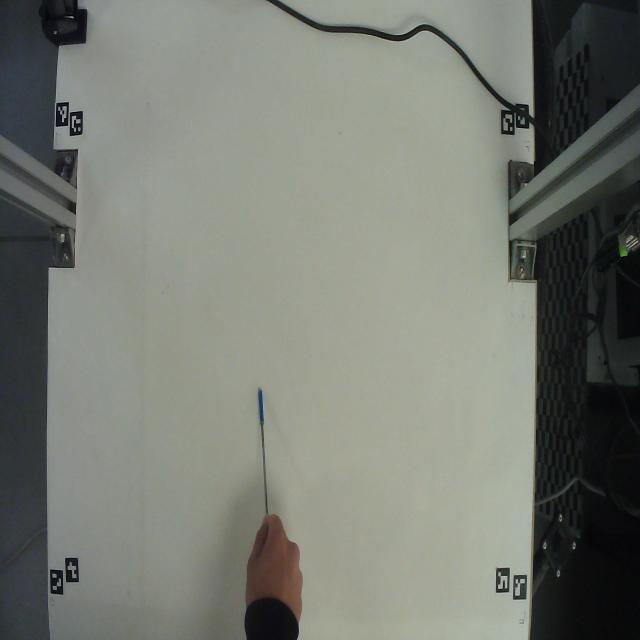Pres: (245, 367, 305, 525)
